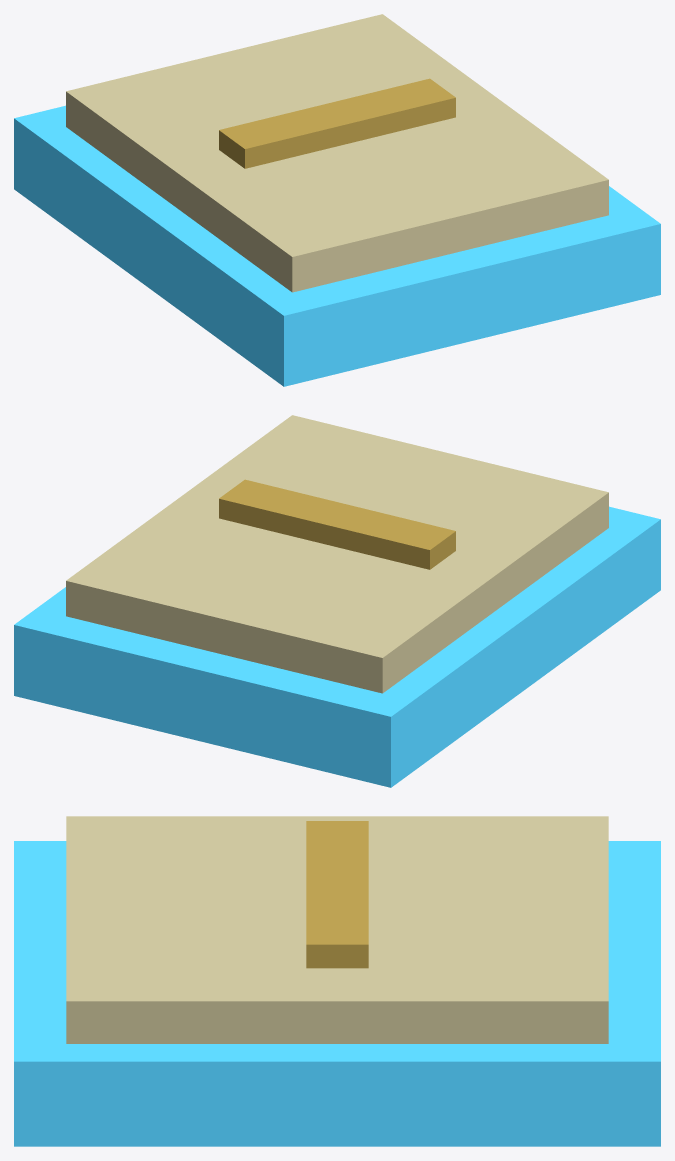
Rendered from tome_of_experience.glb.
3 renders of one model, top to bottom at view 1: azimuth 30°, elevation 25°; view 2: azimuth 150°, elevation 25°; view 3: azimuth 270°, elevation 25°, orthographic. The views are drawn at different scales.
Parts seen in each view (by area): view 1: tome-pages, tome-cover, tome-gold-rune; view 2: tome-pages, tome-cover, tome-gold-rune; view 3: tome-pages, tome-cover, tome-gold-rune.
Boxes of the visible parts, <box> form: tome-pages: <box>66,14,608,292</box>; tome-cover: <box>14,105,660,386</box>; tome-gold-rune: <box>219,78,455,168</box>; tome-pages: <box>66,415,608,693</box>; tome-cover: <box>14,506,660,787</box>; tome-gold-rune: <box>219,479,455,569</box>; tome-pages: <box>66,816,608,1043</box>; tome-cover: <box>14,841,660,1146</box>; tome-gold-rune: <box>306,821,368,968</box>.
Bounding box in the file's own units: 0.5 × 0.1625 × 0.62.
